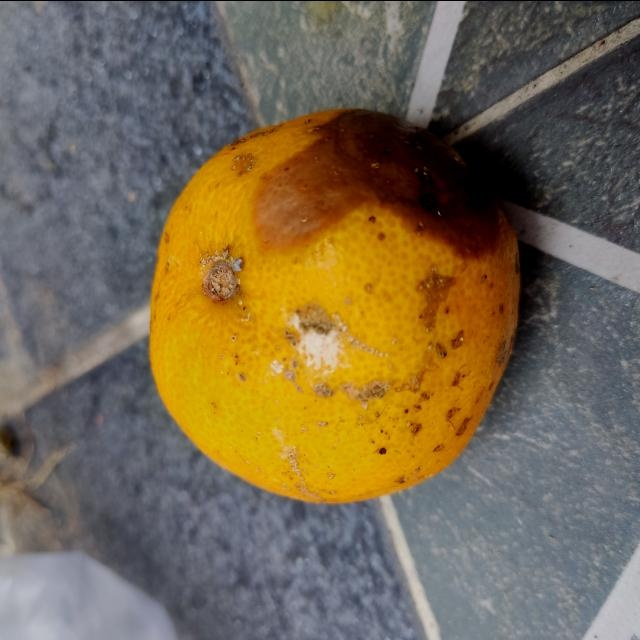agrume: (147, 109, 521, 504)
